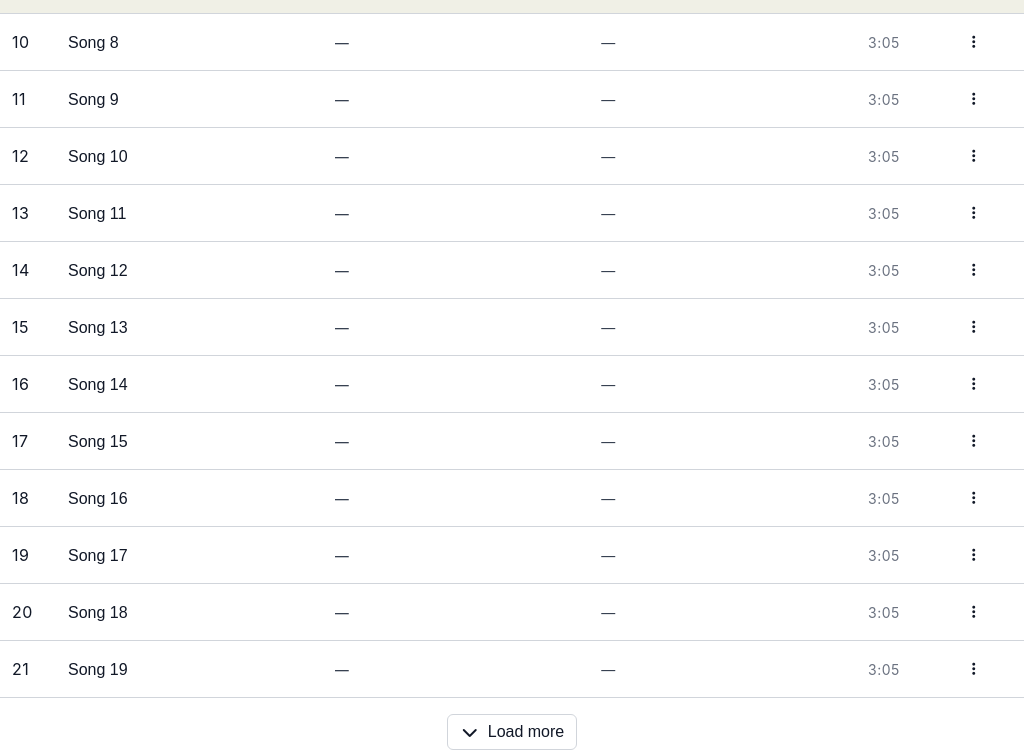
TracksView › keeps remote tracks in the list after loading the next page
This screenshot has width=1024, height=750.
(page scrolled)
What coordinates should you click on to do the following:
click the button "Load more"
I would click on:
 (512, 732)
Its box is [447,714,577,749].
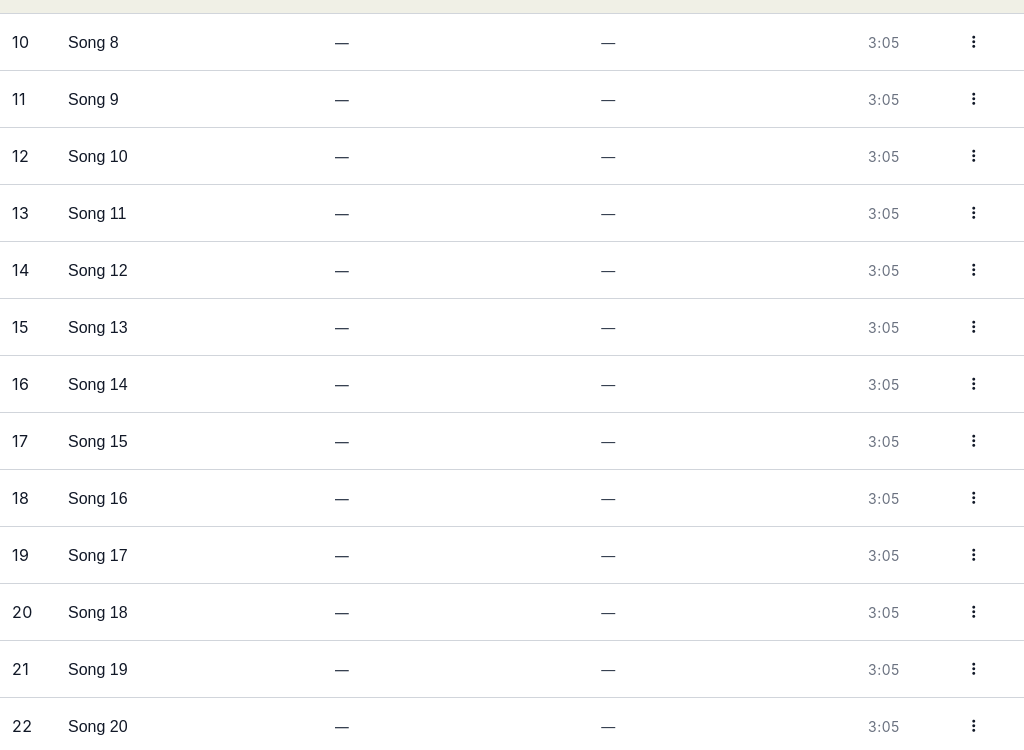
Expected: the text "Song 20" is shown, [68,718,128,735]
